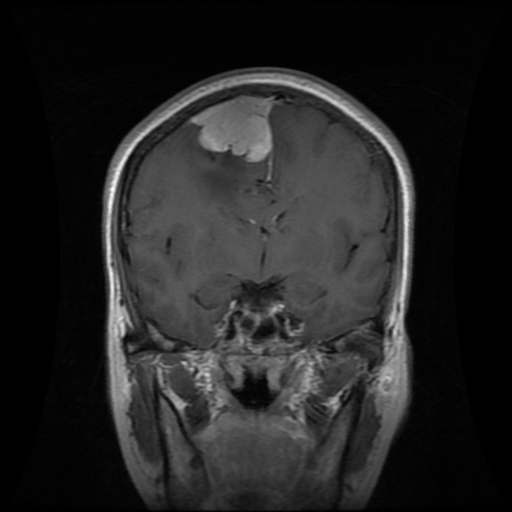meningioma: (191, 95, 274, 162)
